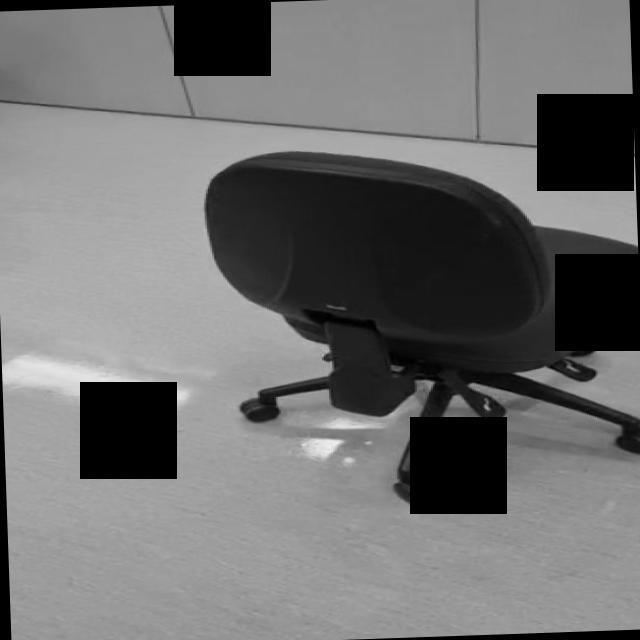chair: (202, 138, 640, 511)
